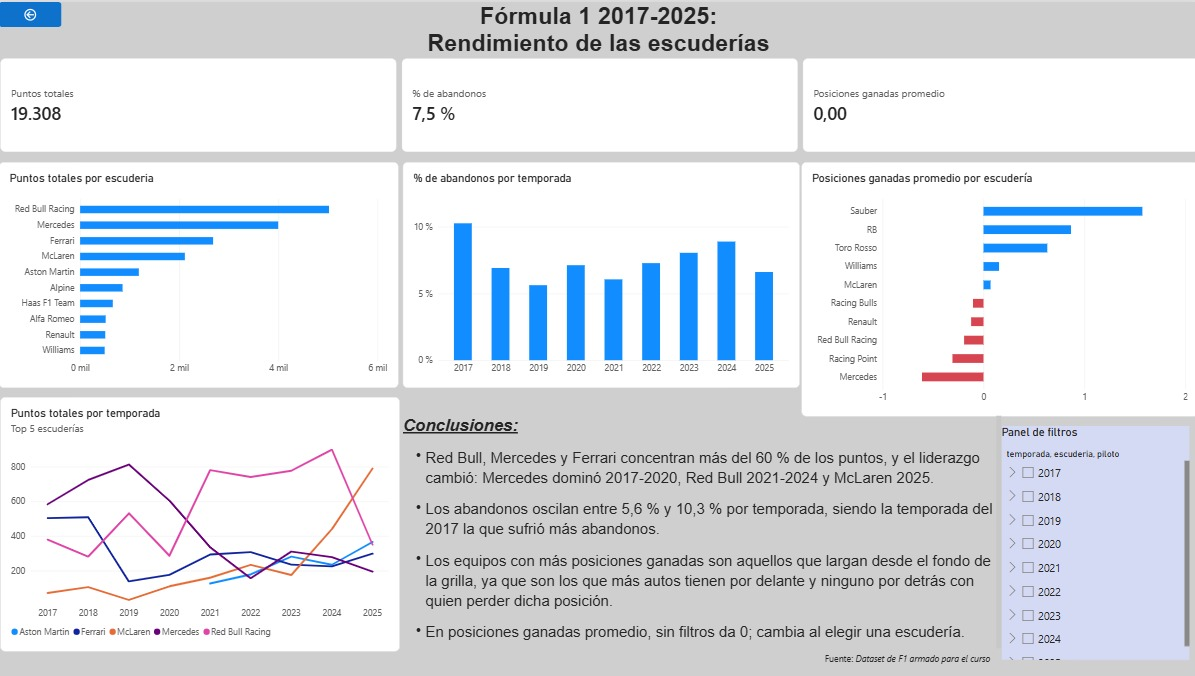

The page's visual inventory and layout, read from the dashboard file:
{"tool":"powerbi","page":{"name":"Página 1","canvas":[1920,1080],"ordinal":0},"visuals":[{"type":"textbox","box":[10.9,0,1909.2,110.4],"z":0},{"type":"cardVisual","title":"Sin filtros da 0; cambia al elegir una escudería","fields":{"Data":["Resultados.Puntos totales","Resultados.% de abandonos","Resultados.Posiciones ganadas promedio"]},"box":[1.8,90.5,1918.2,150.2],"z":1000},{"type":"clusteredBarChart","fields":{"Category":["Resultados.escuderia"],"Y":["Resultados.Puntos totales"]},"box":[0,255.2,638.8,361.9],"z":2000},{"type":"lineChart","title":"Puntos totales por temporada","fields":{"Category":["Resultados.temporada"],"Series":["Resultados.escuderia"],"Y":["Resultados.Puntos totales"]},"box":[1.8,631.6,638.8,407.2],"z":3000},{"type":"clusteredColumnChart","title":"% de abandonos por temporada","fields":{"Category":["Resultados.temporada"],"Y":["Resultados.% de abandonos"]},"box":[646,255.2,635.2,361.9],"z":4000},{"type":"clusteredBarChart","title":"Posiciones ganadas promedio por escudería","fields":{"Category":["Resultados.escuderia"],"Y":["Resultados.Posiciones ganadas promedio"]},"box":[1284.9,255.2,635.2,407.2],"z":5000},{"type":"slicer","title":"Panel de filtros","fields":{"Values":["Resultados.temporada","Resultados.escuderia","Resultados.piloto"]},"box":[1603.4,678.6,300.4,374.6],"z":6000},{"type":"actionButton","box":[0,0,100,40],"z":7000},{"type":"textbox","box":[646,662.3,957.3,418],"z":8000}]}

Visuals, with their boxes in screenshot pixels (x1, y1, x2, y2), scaled from the page's 1920x1080 canvas onto the 1195x676 screenshot:
textbox: <box>7,0,1194,69</box>
"Sin filtros da 0; cambia al elegir una escudería" cardVisual: <box>1,57,1194,151</box>
clusteredBarChart - Resultados.escuderia x Resultados.Puntos totales: <box>0,160,398,386</box>
"Puntos totales por temporada" lineChart: <box>1,395,399,650</box>
"% de abandonos por temporada" clusteredColumnChart: <box>402,160,797,386</box>
"Posiciones ganadas promedio por escudería" clusteredBarChart: <box>800,160,1194,415</box>
"Panel de filtros" slicer: <box>998,425,1185,659</box>
actionButton: <box>0,0,62,25</box>
textbox: <box>402,415,998,675</box>
